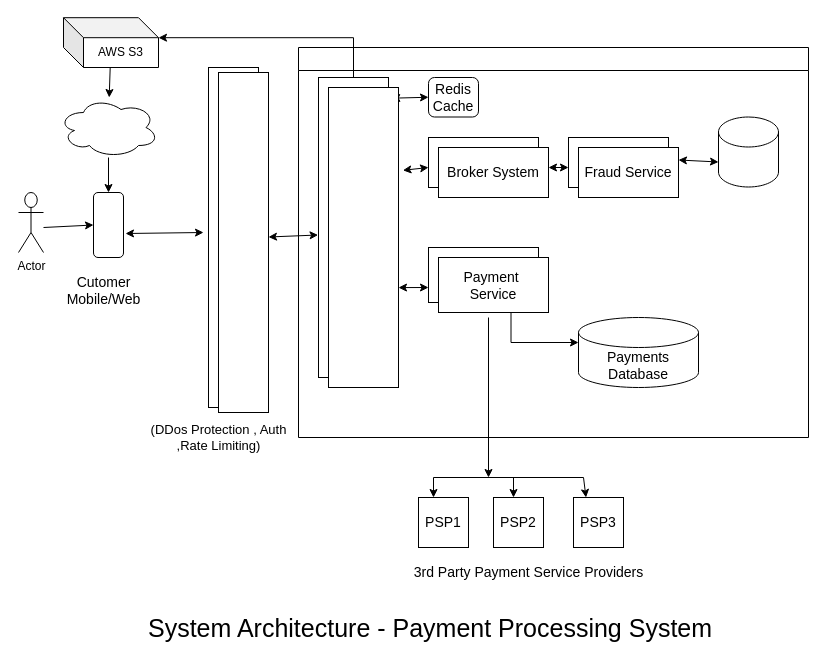
The diagram is 826 pixels wide and 665 high, and some of its shapes have lost their labels. Each missing label, with the box of its shape:
Blacklist Rules: (718, 116, 778, 187)
CDN: (58, 96, 158, 158)
Payment Domain: (298, 46, 808, 438)
Payments Processing Service: (328, 86, 398, 388)
Router: (218, 72, 268, 412)
